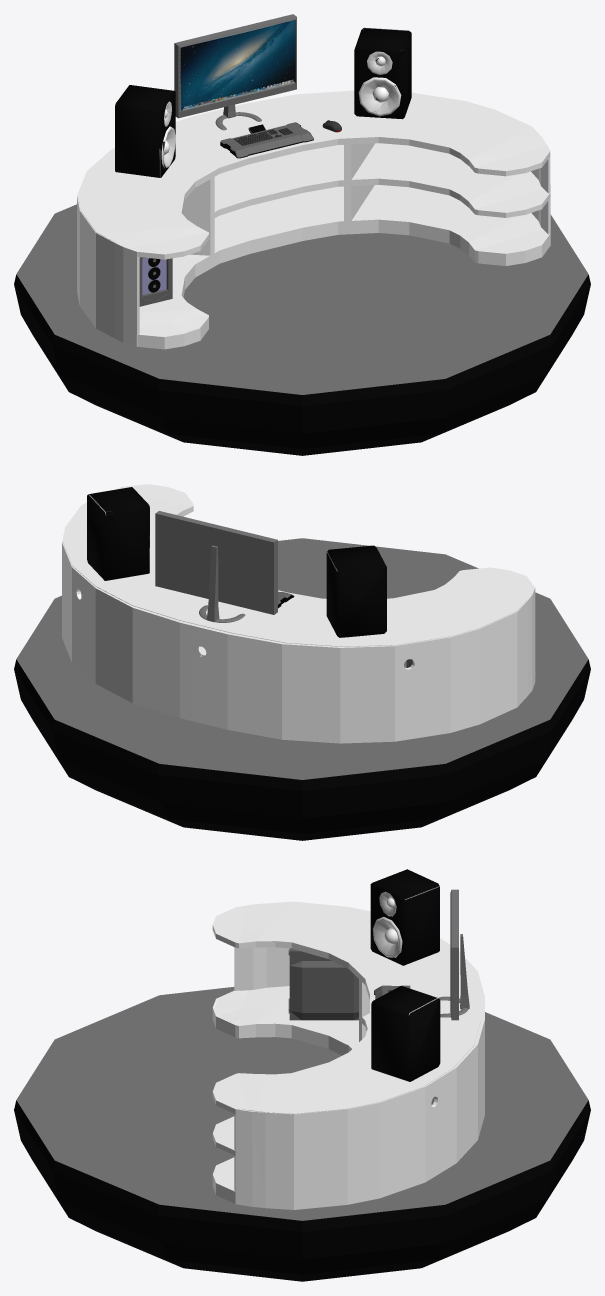
Rendered from roomDesktop.obj.
The picture shows the model from 3 angles, top to bottom: view 1: azimuth 30°, elevation 25°; view 2: azimuth 150°, elevation 25°; view 3: azimuth 270°, elevation 25°; orthographic projection.
Visible parts, largest first — view 1: Mesa_Cube.015; view 2: Mesa_Cube.015; view 3: Mesa_Cube.015.
Part boxes in pixels (<box>): Mesa_Cube.015: <box>14,14,590,455</box>; Mesa_Cube.015: <box>14,484,590,840</box>; Mesa_Cube.015: <box>14,869,590,1281</box>.
Bounding box in the file's own units: 31.24 × 15.96 × 31.24.
